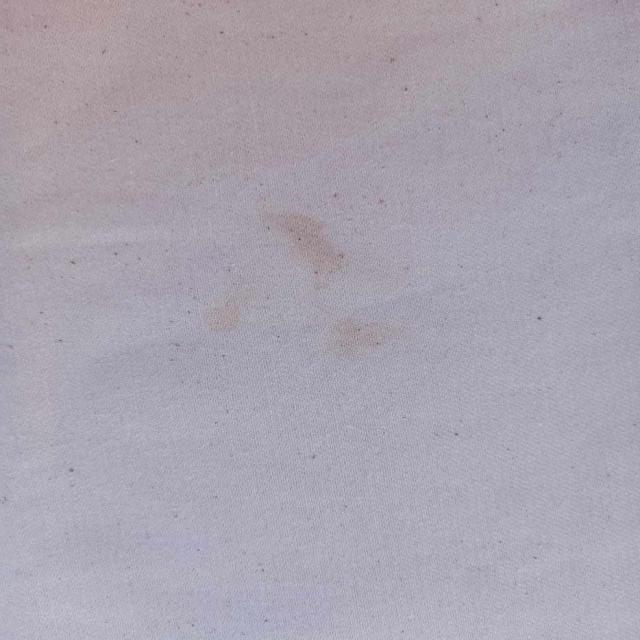taaaches: (255, 206, 365, 285), (319, 306, 413, 370), (196, 298, 262, 354)
